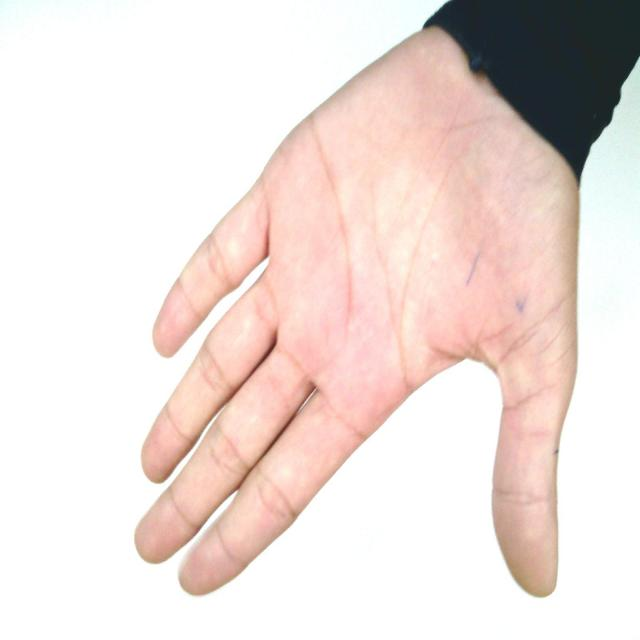others: (128, 1, 630, 600)
